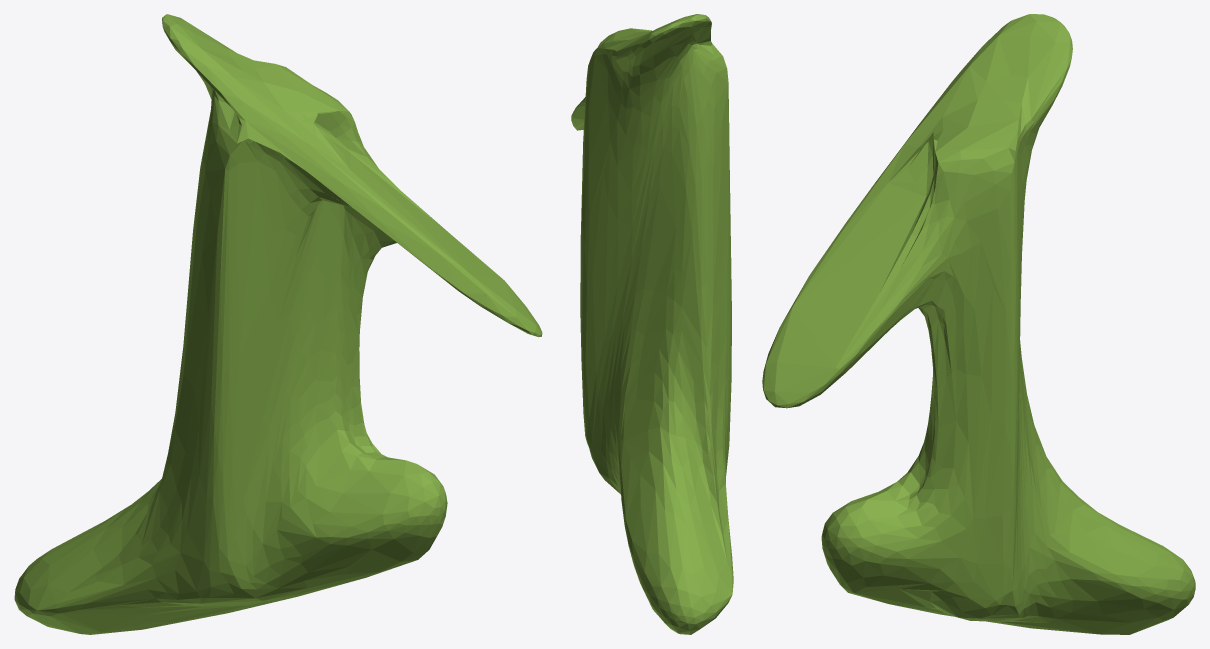
3 views of the same model, side by side, from view 1: azimuth 30°, elevation 25°; view 2: azimuth 150°, elevation 25°; view 3: azimuth 270°, elevation 25° (orthographic). The views are drawn at different scales.
Parts seen in each view (by area): view 1: 455_Cube.1842; view 2: 455_Cube.1842; view 3: 455_Cube.1842.
Boxes of the visible parts, x1,y1,x2,y2 form: 455_Cube.1842: (14, 14, 542, 634); 455_Cube.1842: (571, 14, 733, 634); 455_Cube.1842: (762, 14, 1195, 634).
Size of the model in its own units: 8.79 by 15.95 by 9.86.
